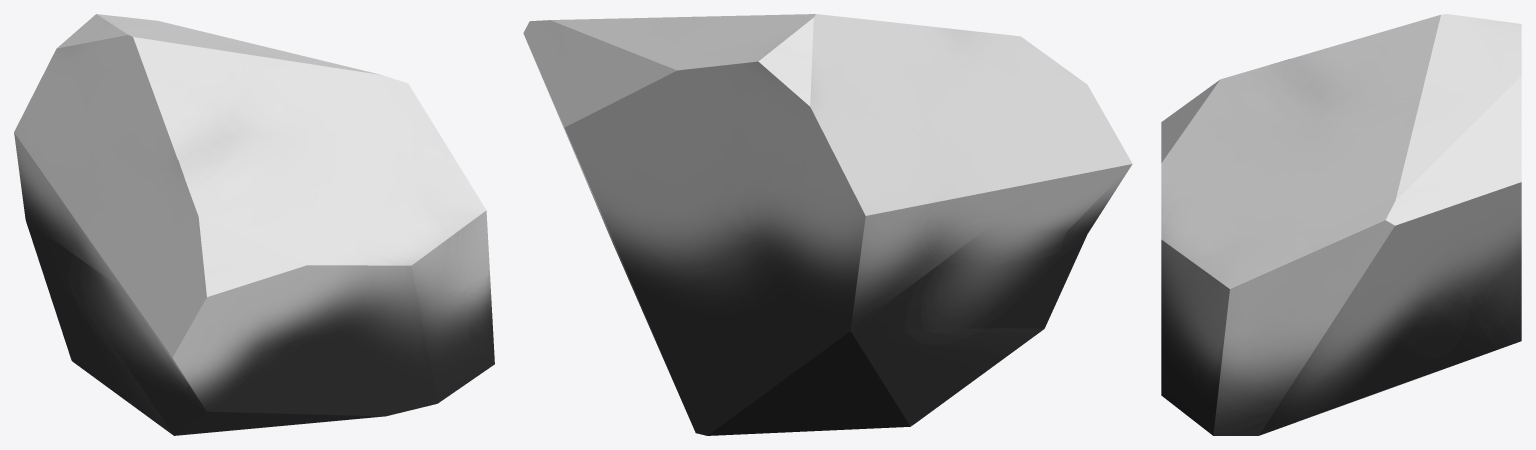
The model's file is Rock2.fbx.
The picture shows the model from 3 angles, left to right: view 1: azimuth 30°, elevation 25°; view 2: azimuth 150°, elevation 25°; view 3: azimuth 270°, elevation 25°; orthographic projection. The views are drawn at different scales.
Visible parts, largest first — view 1: Rock2; view 2: Rock2; view 3: Rock2.
Boxes of the visible parts, x1,y1,x2,y2 form: Rock2: [14, 14, 494, 435]; Rock2: [523, 14, 1132, 435]; Rock2: [1161, 14, 1521, 435].
Bounding box in the file's own units: 222 × 185 × 200.
Materials: 1 (1 with a texture image).
